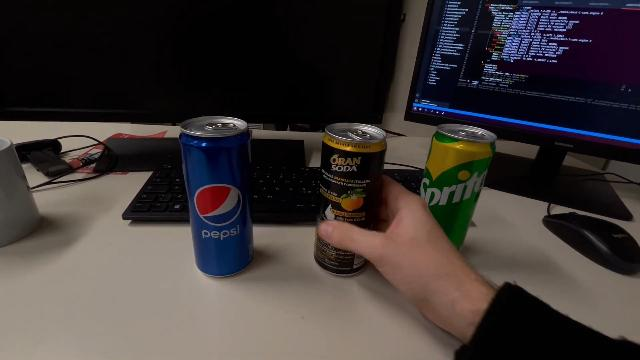OranSoda: (312, 120, 388, 278)
Pepsi: (178, 115, 258, 280)
Sprite: (418, 121, 498, 255)
